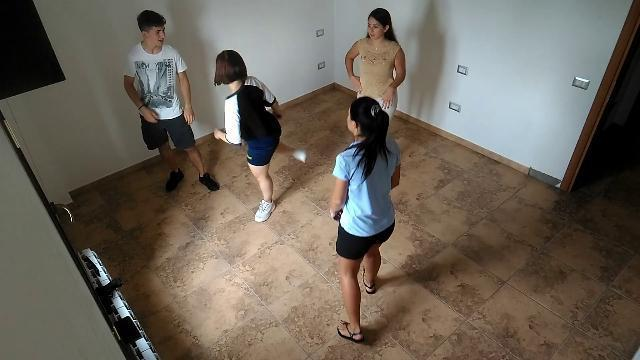non-violence: (326, 95, 404, 345), (342, 7, 408, 131)
violence: (125, 12, 307, 224)
